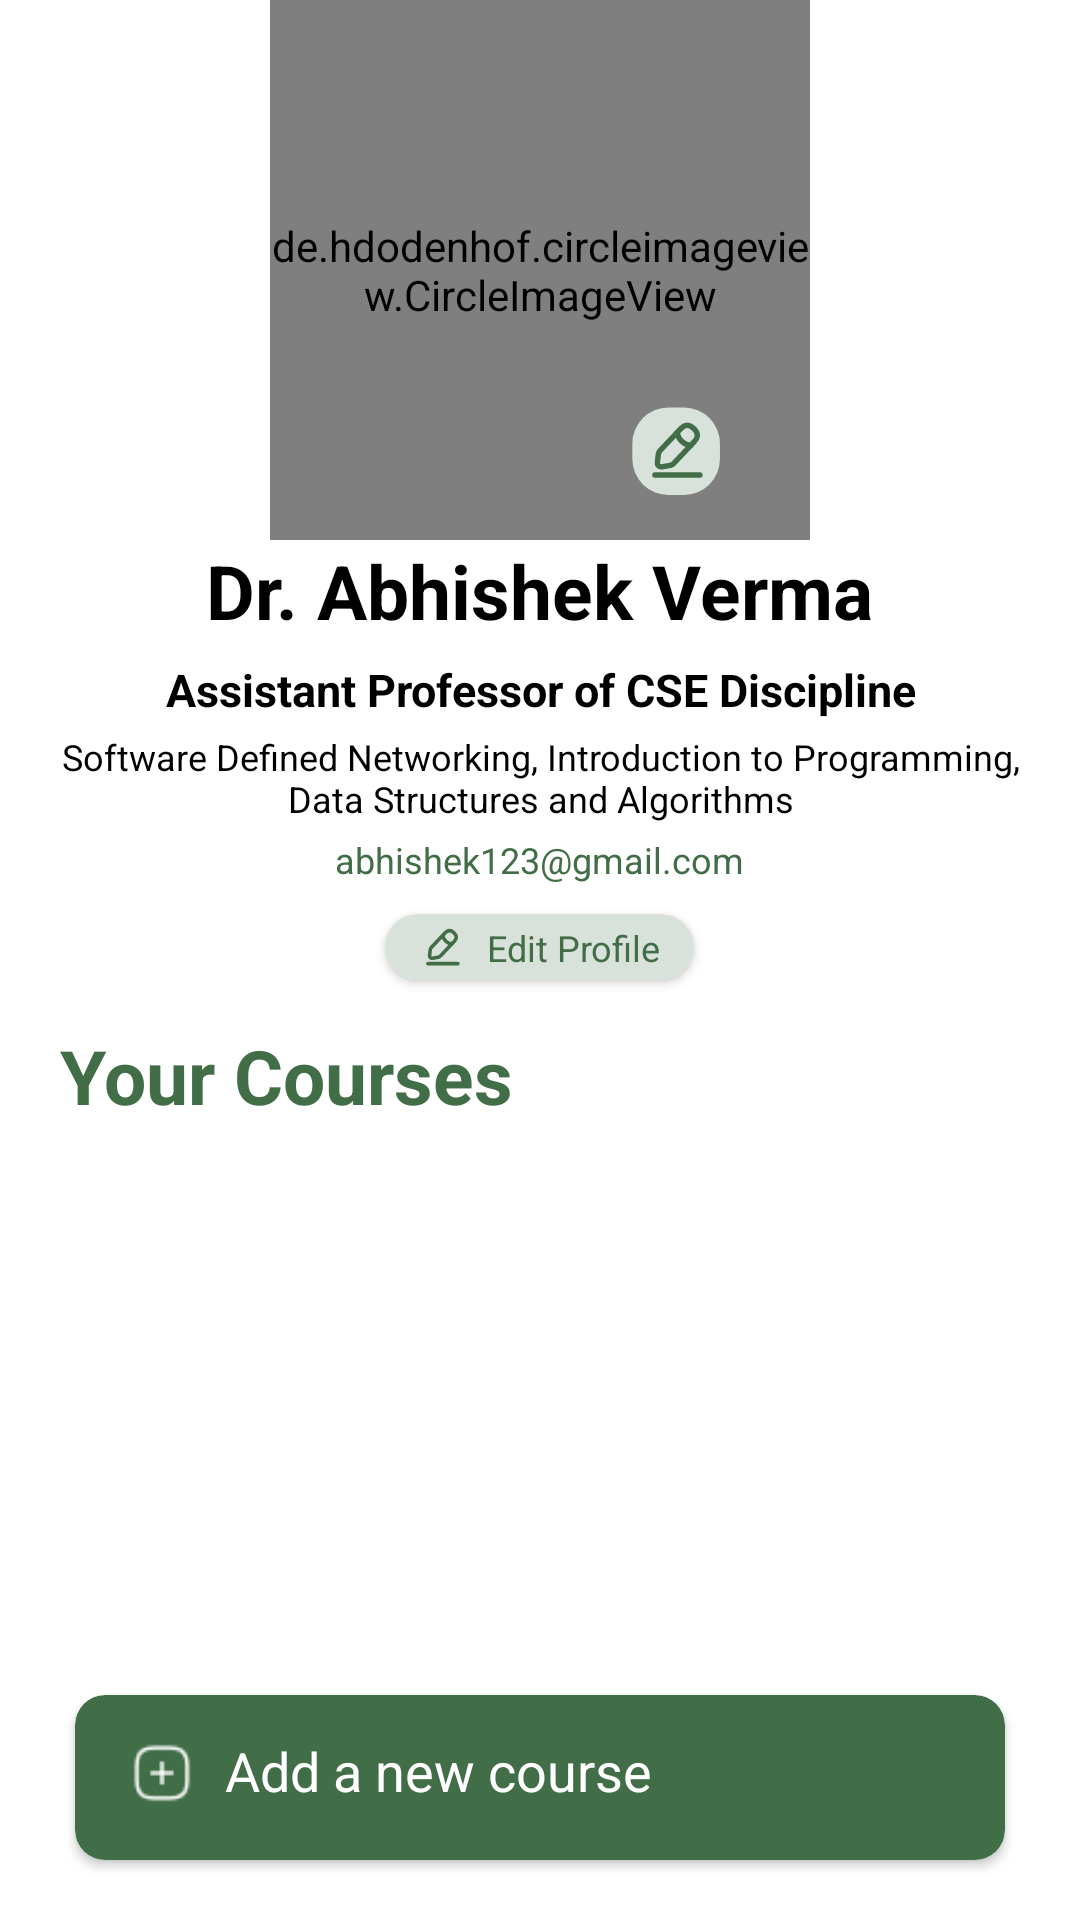

Screen size 1080 x 1920. Icon name, then its center in pixels as (x=x, y=y):
addsquare: (x=162, y=1773)
